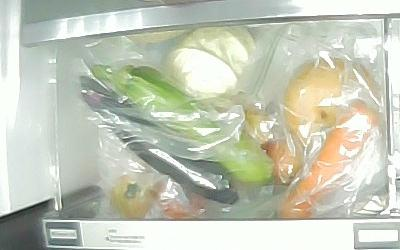cabbage_vinyl: (167, 26, 255, 99)
carrot_vinyl: (282, 96, 380, 219)
eggplant_vinyl: (77, 77, 240, 207)
pear_vinyl: (284, 57, 384, 153)
tomato_vinyl: (158, 176, 216, 221), (110, 174, 156, 219), (263, 139, 305, 186), (243, 108, 276, 148)
zucchini_vinyl: (96, 64, 275, 186)
